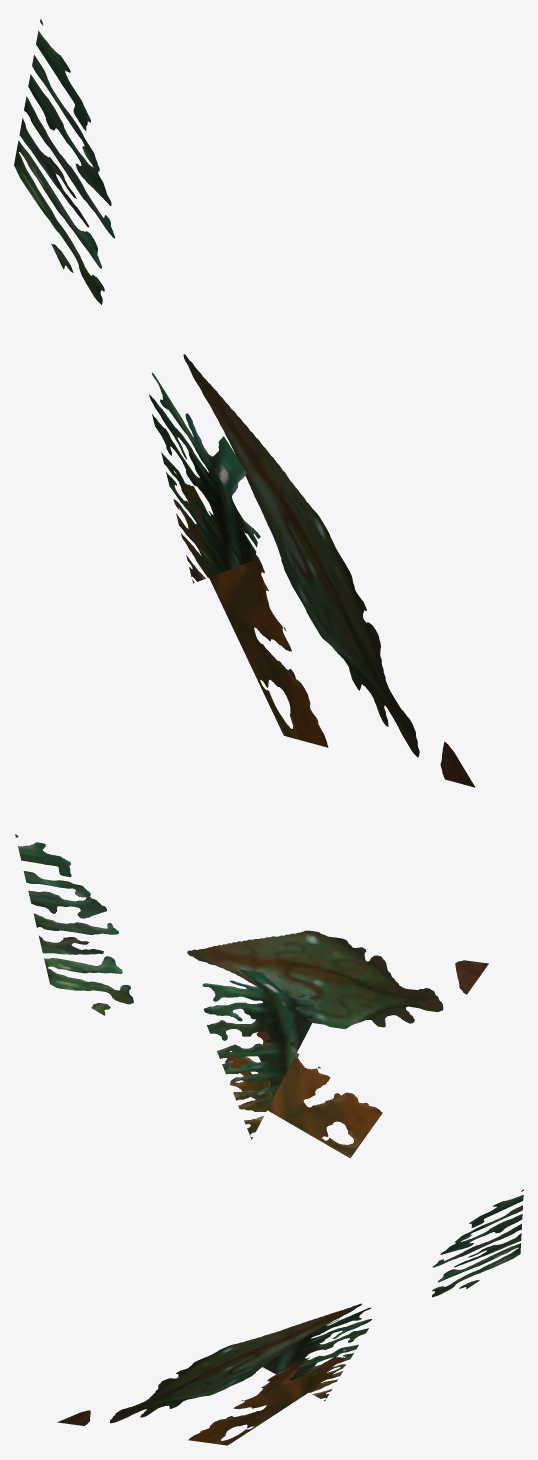
File: stemple_vinehall_transition_02.fbx
The picture shows the model from 3 angles, top to bottom: view 1: azimuth 30°, elevation 25°; view 2: azimuth 150°, elevation 25°; view 3: azimuth 270°, elevation 25°; orthographic projection. The views are drawn at different scales.
Parts seen in each view (by area): view 1: sunken_tileset/sunken_plants01_mat; view 2: sunken_tileset/sunken_plants01_mat; view 3: sunken_tileset/sunken_plants01_mat.
Boxes of the visible parts, x1=… form: sunken_tileset/sunken_plants01_mat: x1=14, y1=19, x2=475, y2=787; sunken_tileset/sunken_plants01_mat: x1=15, y1=834, x2=488, y2=1158; sunken_tileset/sunken_plants01_mat: x1=57, y1=1189, x2=523, y2=1445.
Size of the model in its own units: 0.5752 by 7.34 by 12.65.
